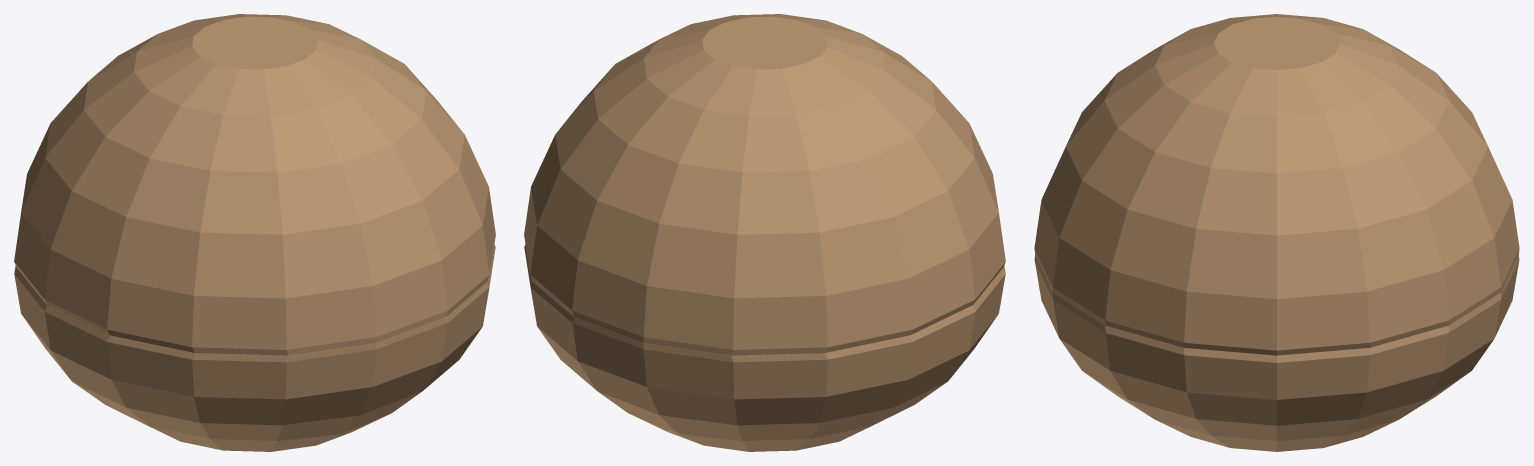
Rendered from bread_notcut.fbx.
The picture shows the model from 3 angles, left to right: view 1: azimuth 30°, elevation 25°; view 2: azimuth 150°, elevation 25°; view 3: azimuth 270°, elevation 25°; orthographic projection.
Visible parts, largest first — view 1: bread_nocut; view 2: bread_nocut; view 3: bread_nocut.
Part boxes in pixels (<box>): bread_nocut: <box>14,14,495,451</box>; bread_nocut: <box>524,14,1005,451</box>; bread_nocut: <box>1034,14,1519,451</box>.
Size of the model in its own units: 199 by 172 by 199.
